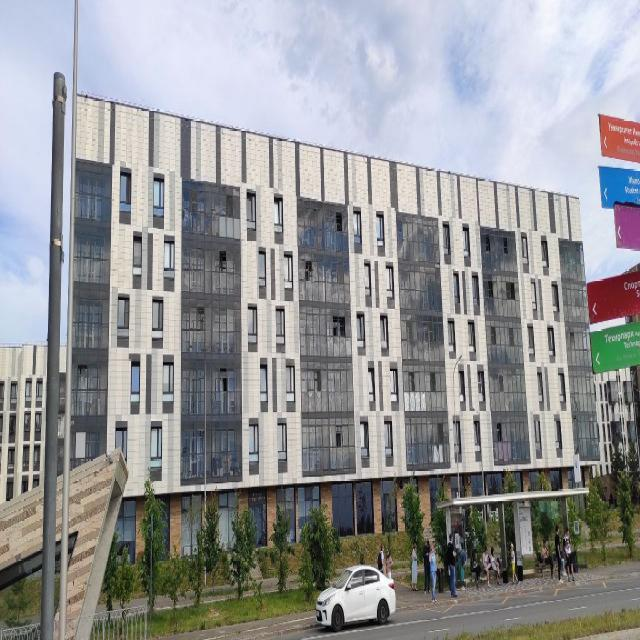Building: (69, 91, 600, 557)
